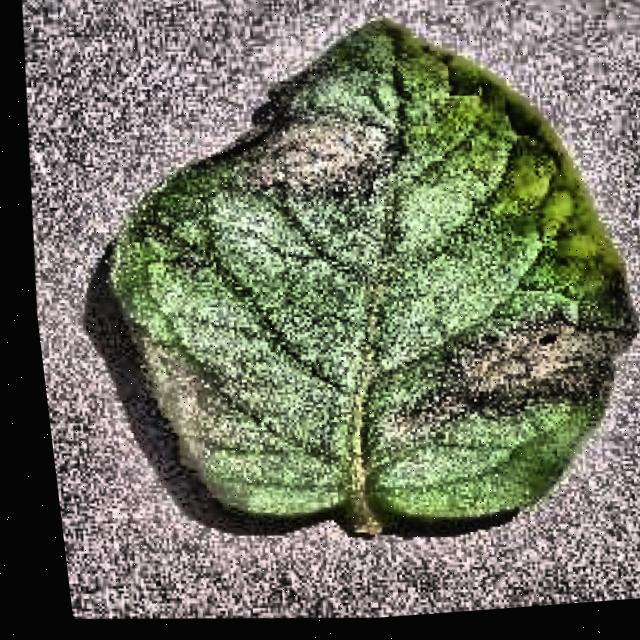Potato_leaf_late_blight: (98, 6, 640, 529)
